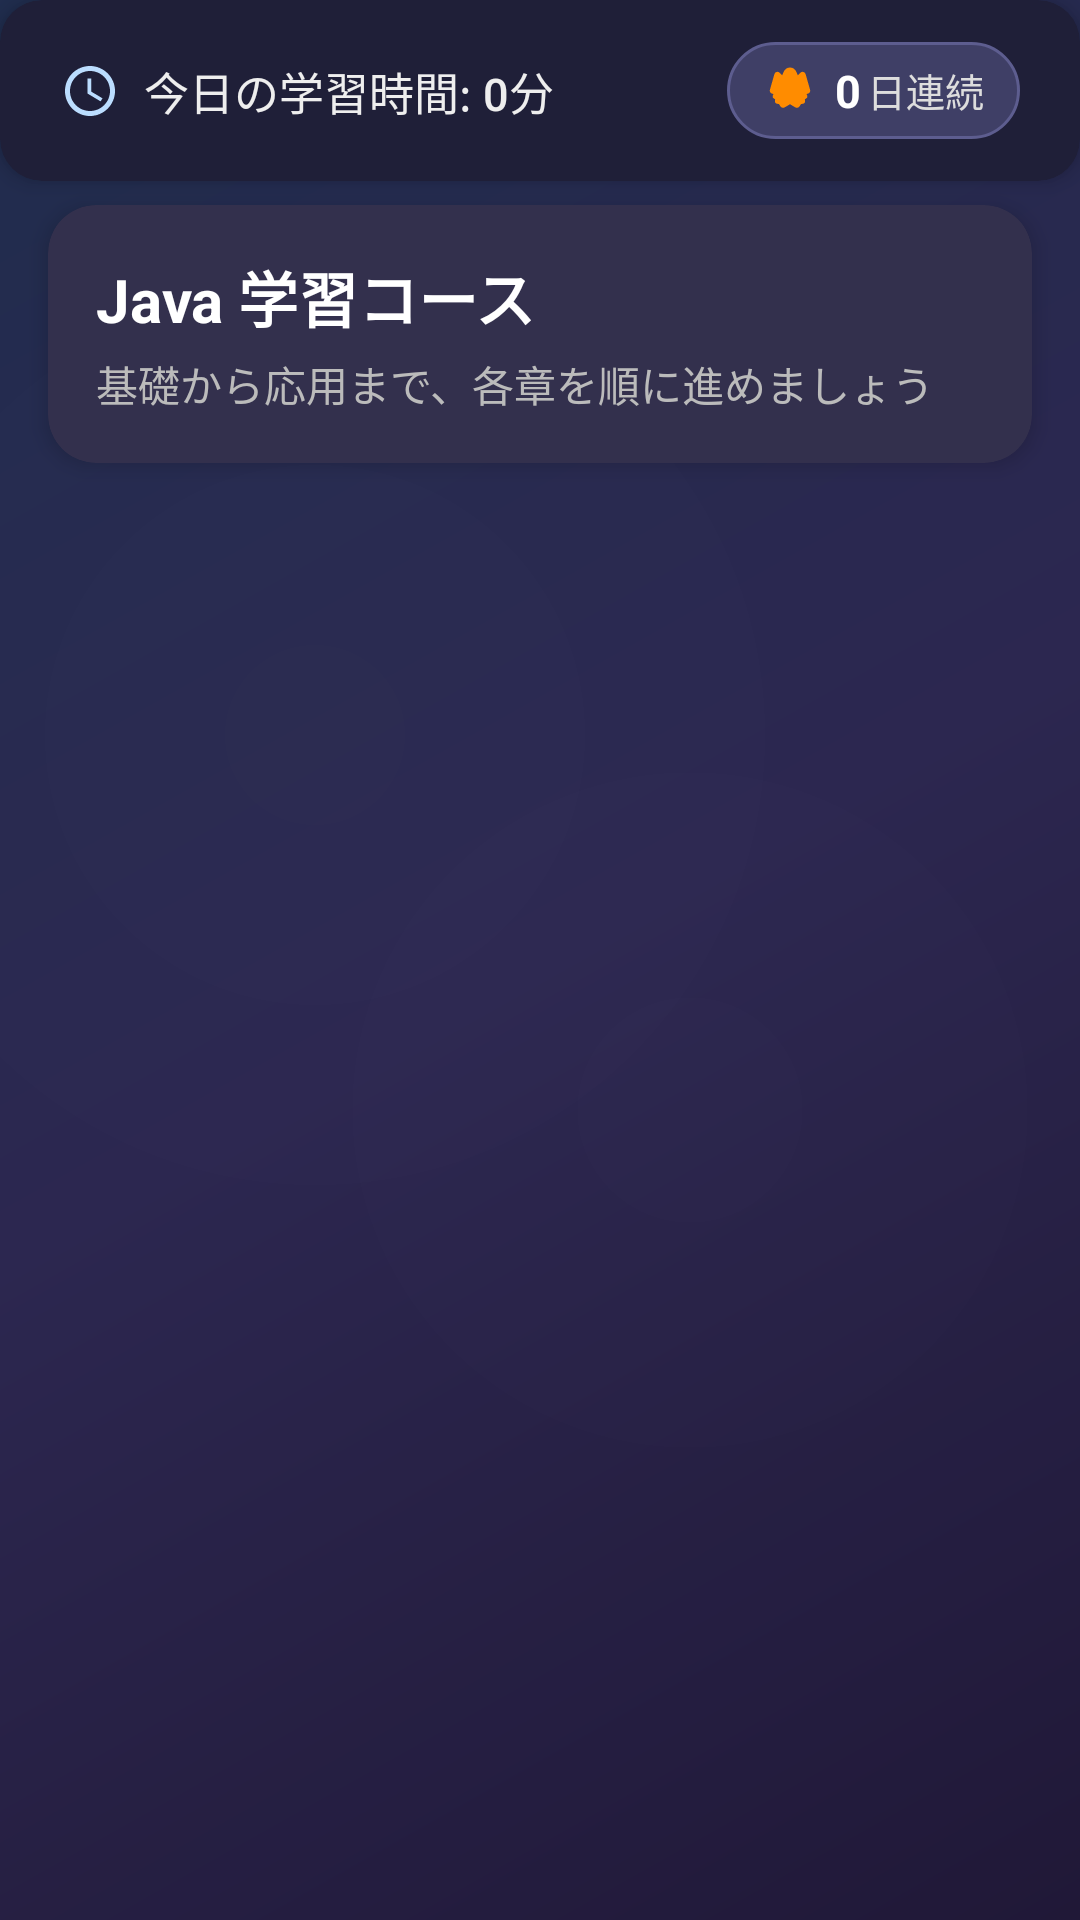

Locate icon controls on the screen. Image size 1080 x 1920, boxes as (x1, y1, x2, y2).
Clock icon: (65, 66, 115, 116)
Fire streak: (769, 67, 811, 108)
